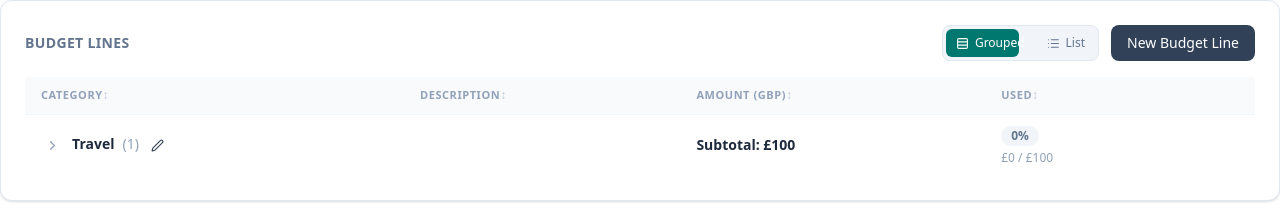
Test: BudgetViewLinesTable category rename › confirming a rename submits the PATCH and reflects the new name via setBudget
The width and height of the screenshot is (1280, 219).
Click the button titled "Rename category": (157, 145) [143,130,172,160]
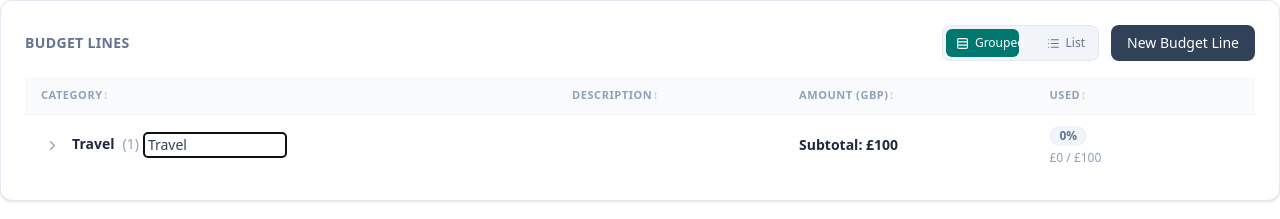
Replace the text in the field with "Transport": (215, 145) [143,132,287,158]
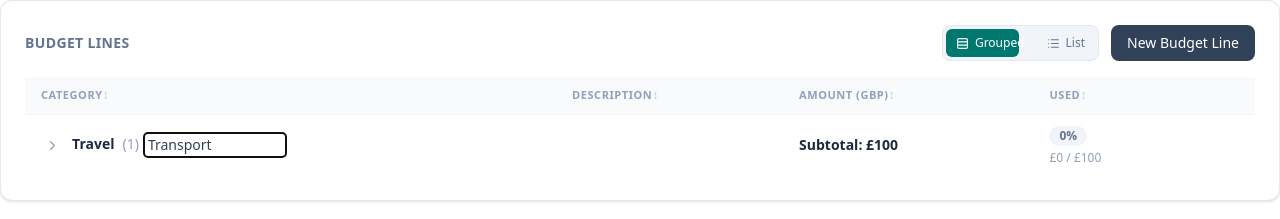
Press Enter
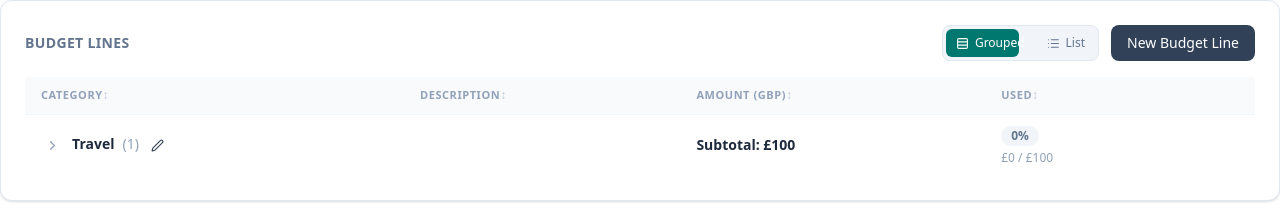
Check: the field is gone
